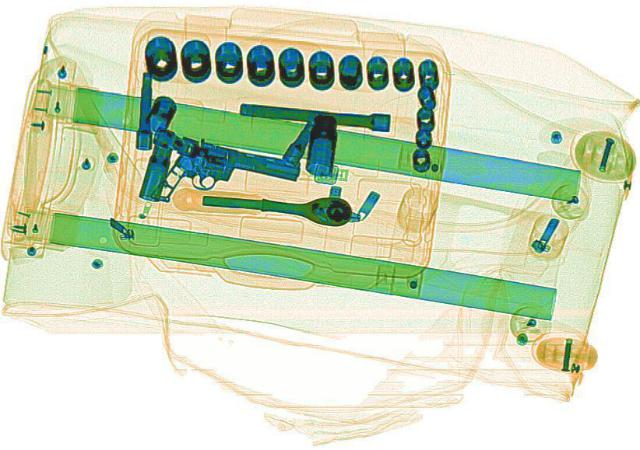Gun: (148, 136, 304, 224)
